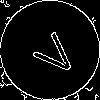V: (25, 25, 81, 80)
